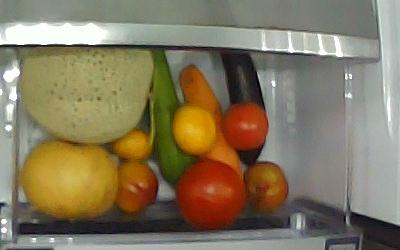carrot: (177, 62, 242, 176)
eggplant: (218, 48, 268, 165)
melon: (21, 46, 154, 144)
pear: (21, 137, 118, 220)
prune: (113, 159, 159, 213), (243, 160, 288, 213), (221, 100, 268, 150)
tangerine: (171, 103, 216, 155), (110, 128, 152, 160)
tomato: (175, 159, 246, 229)
zucchini: (142, 47, 199, 188)
